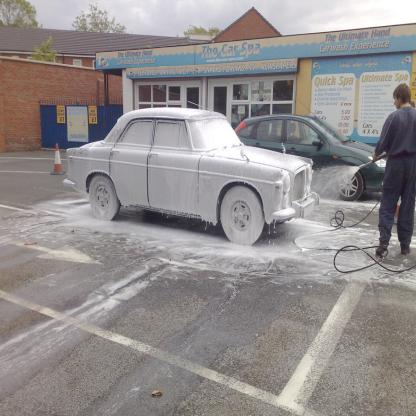Car: (61, 107, 320, 246), (235, 114, 387, 199)
